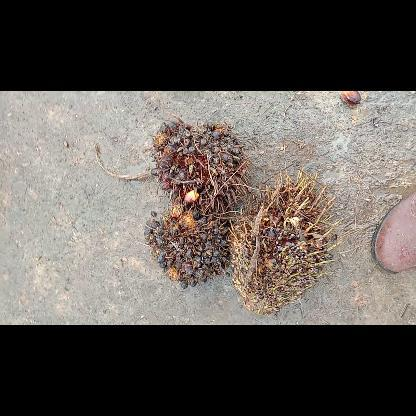TBS abnormal: (229, 171, 337, 313), (150, 119, 250, 213), (144, 190, 230, 288)
